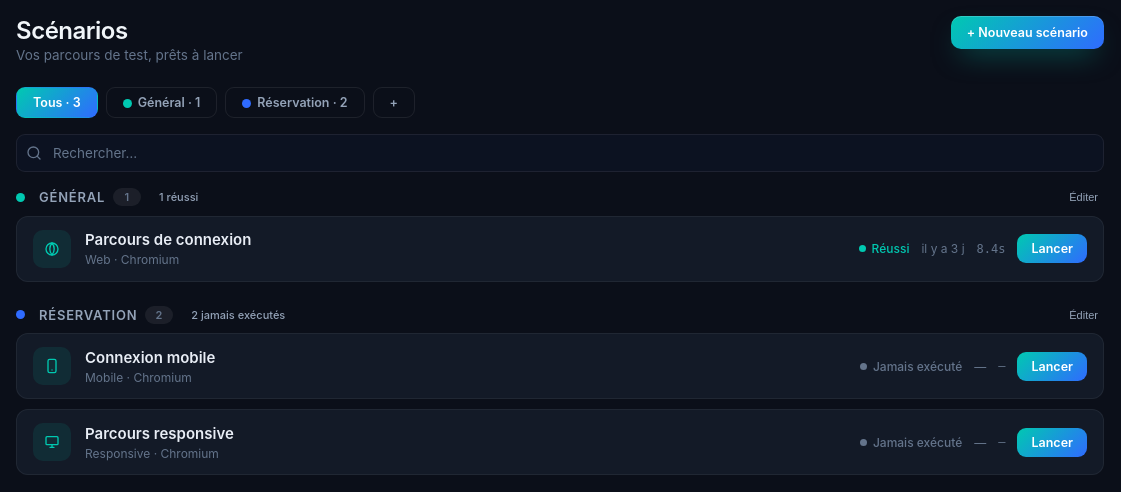
Test: HubLibrary filtres/recherche/env › recherche par nom
Expected: the text "Parcours de connexion" is shown, [85, 230, 251, 249]
In the field with placeholder "Rechercher…": [560, 153] box [16, 134, 1104, 172], type "mobile"
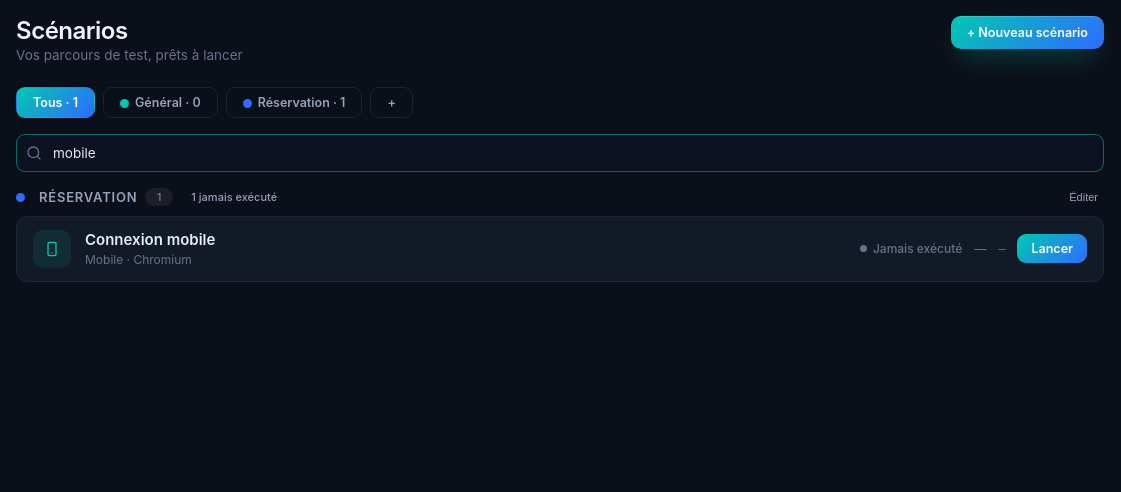
Expected: the text "Connexion mobile" is shown, [85, 230, 215, 249]
Expected: the text "Parcours de connexion" is gone
